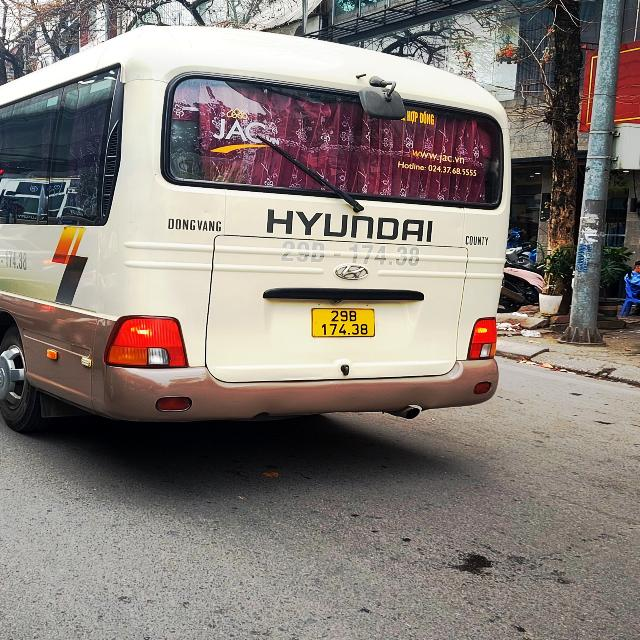license_plate: (313, 310, 374, 338)
